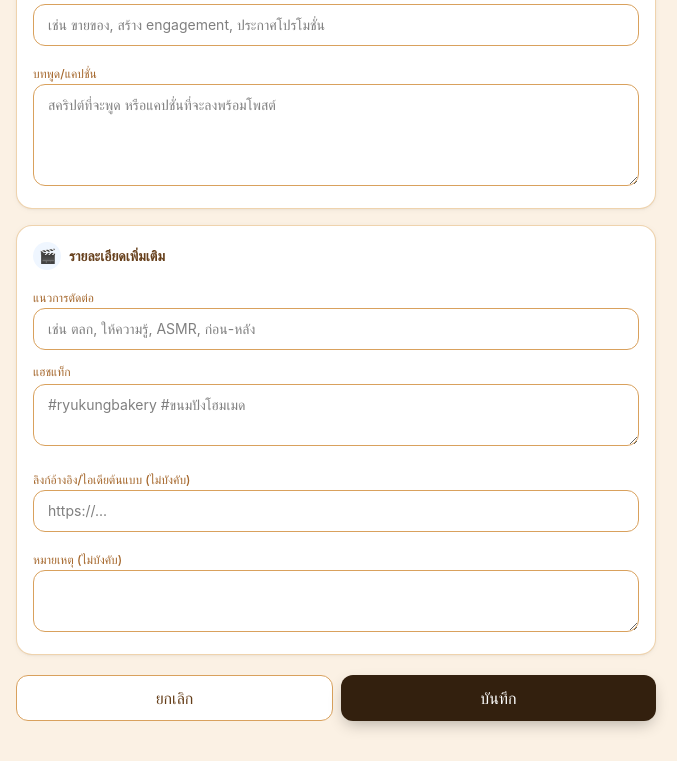
Test: ContentItemForm — สร้างใหม่ › ไม่กรอกชื่อคอนเทนต์ กดบันทึกแล้วขึ้น error ไม่ยิง saveContentItem
(page scrolled)
Step 1. Click the button "บันทึก" → {"x": 498, "y": 698}, box [341,675,656,721]
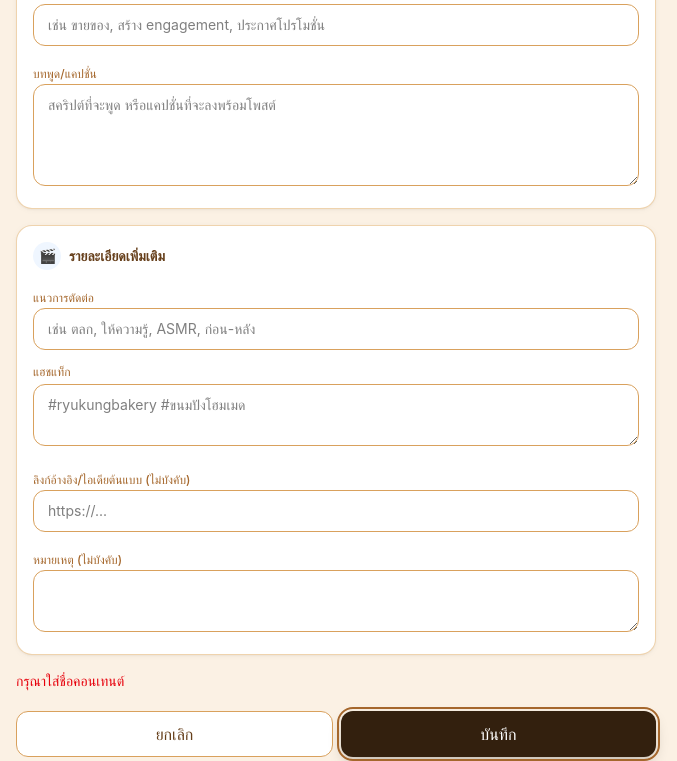
Check: the text "กรุณาใส่ชื่อคอนเทนต์" is shown, box [16,672,124,689]
